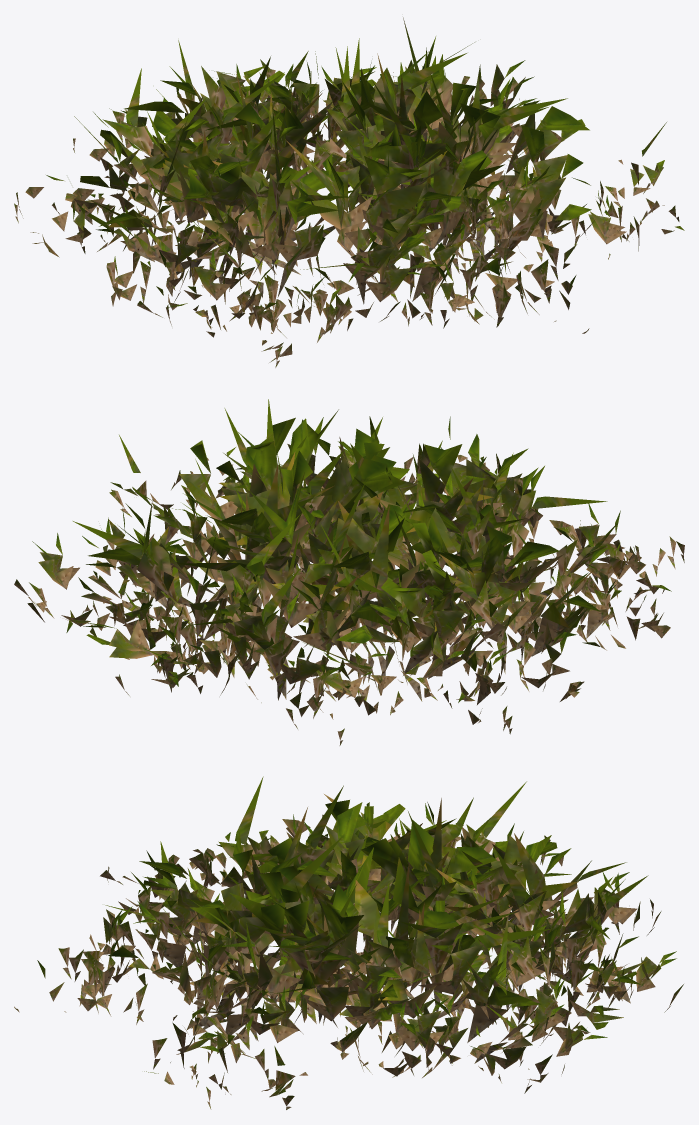
Rendered from MT_PM_V60_Cynodon_dactylon_01_01.dae.
3 views of the same model, one above another, from view 1: azimuth 30°, elevation 25°; view 2: azimuth 150°, elevation 25°; view 3: azimuth 270°, elevation 25° (orthographic).
Parts seen in each view (by area): view 1: MT_PM_V60_Cynodon_dactylon_01_01; view 2: MT_PM_V60_Cynodon_dactylon_01_01; view 3: MT_PM_V60_Cynodon_dactylon_01_01.
Part boxes in pixels (x1,y1,x2,y2): MT_PM_V60_Cynodon_dactylon_01_01: (14, 17, 684, 367); MT_PM_V60_Cynodon_dactylon_01_01: (14, 399, 684, 745); MT_PM_V60_Cynodon_dactylon_01_01: (14, 776, 683, 1109).
Bounding box in the file's own units: 0.293 × 0.3057 × 0.0847.
